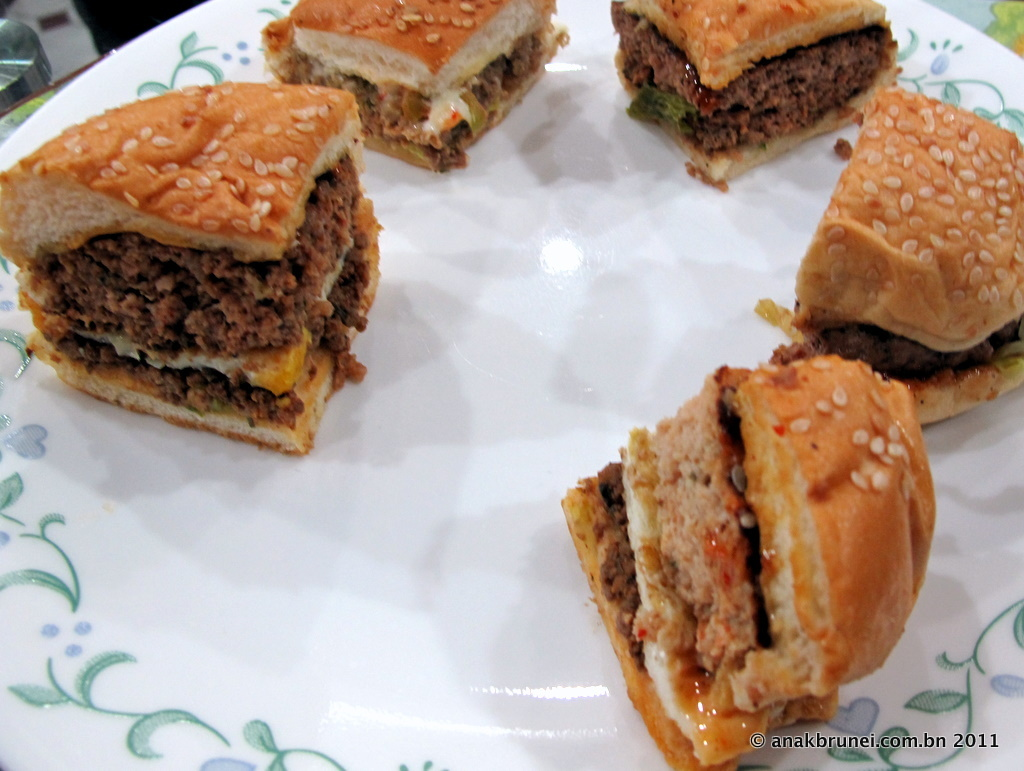Hamburger: (551, 357, 938, 770), (0, 80, 387, 461), (762, 93, 1022, 420), (615, 0, 897, 189), (259, 0, 568, 171)
